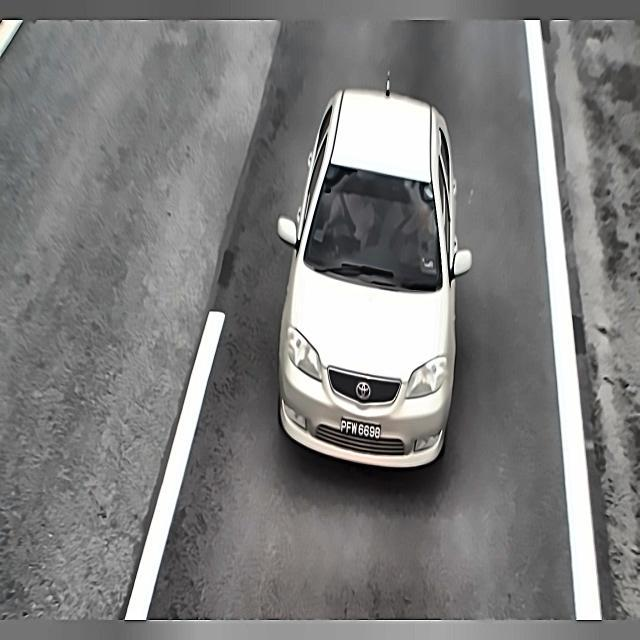car: (336, 411, 384, 444)
